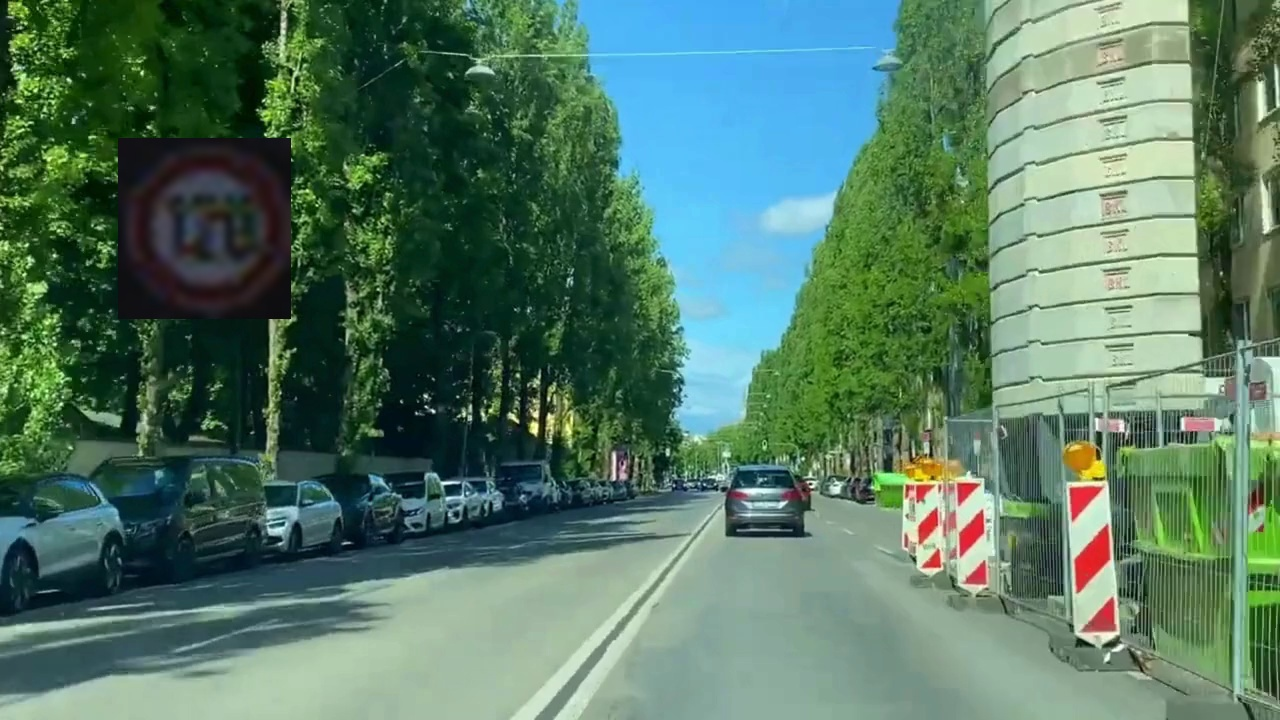Speed 120: (118, 138, 291, 319)
